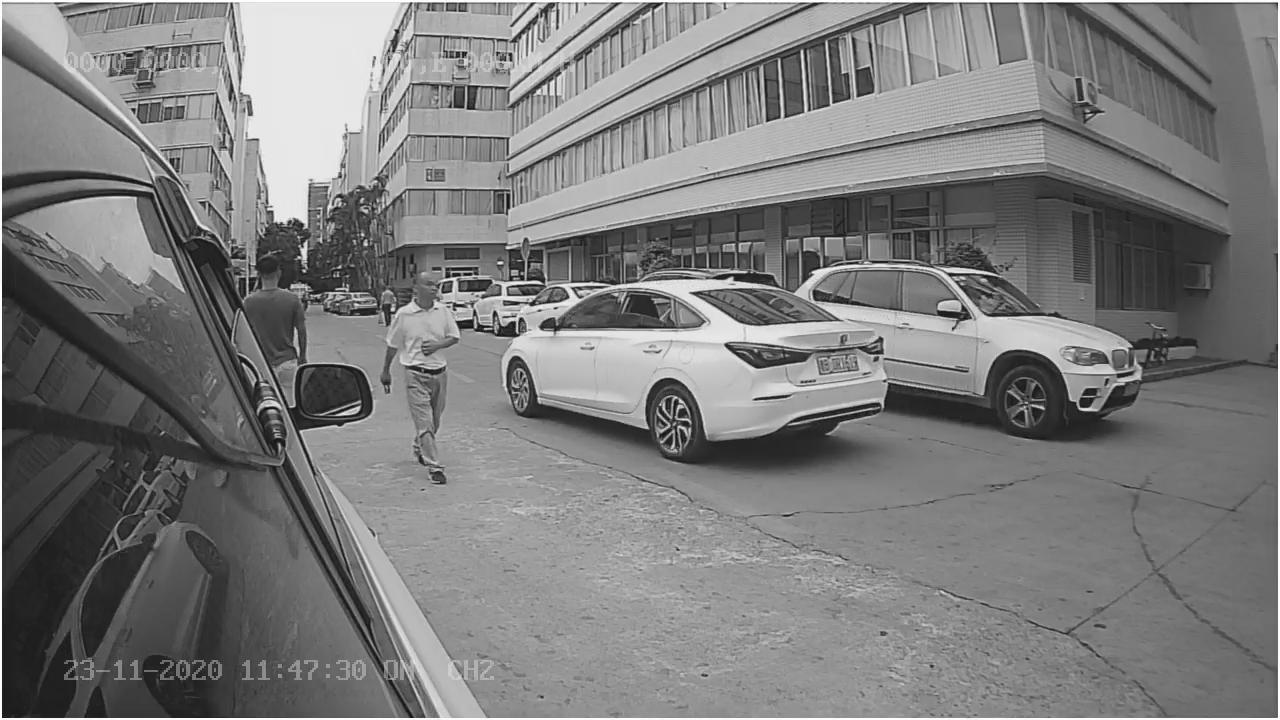person: (383, 249, 468, 486)
